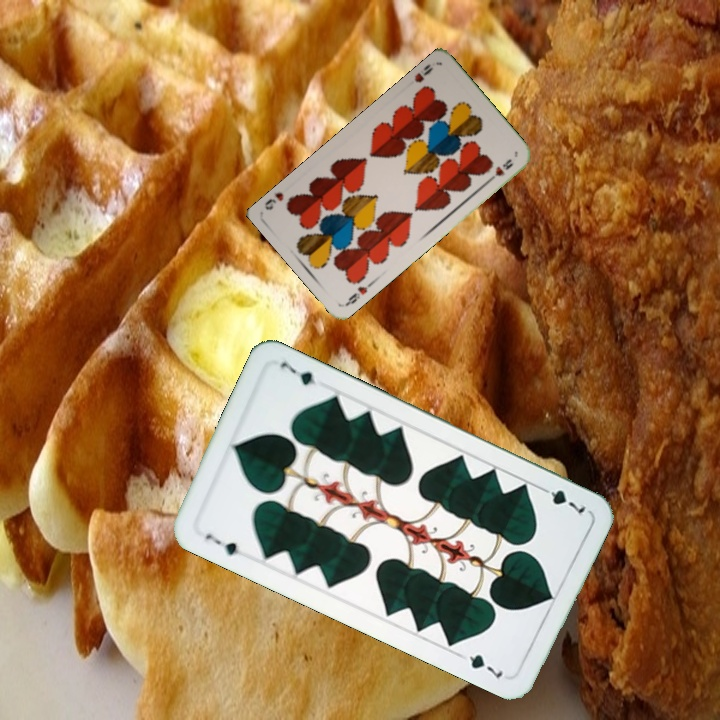G7: (535, 482, 589, 516), (200, 530, 242, 558)
H9: (342, 278, 376, 308), (410, 60, 436, 85)
